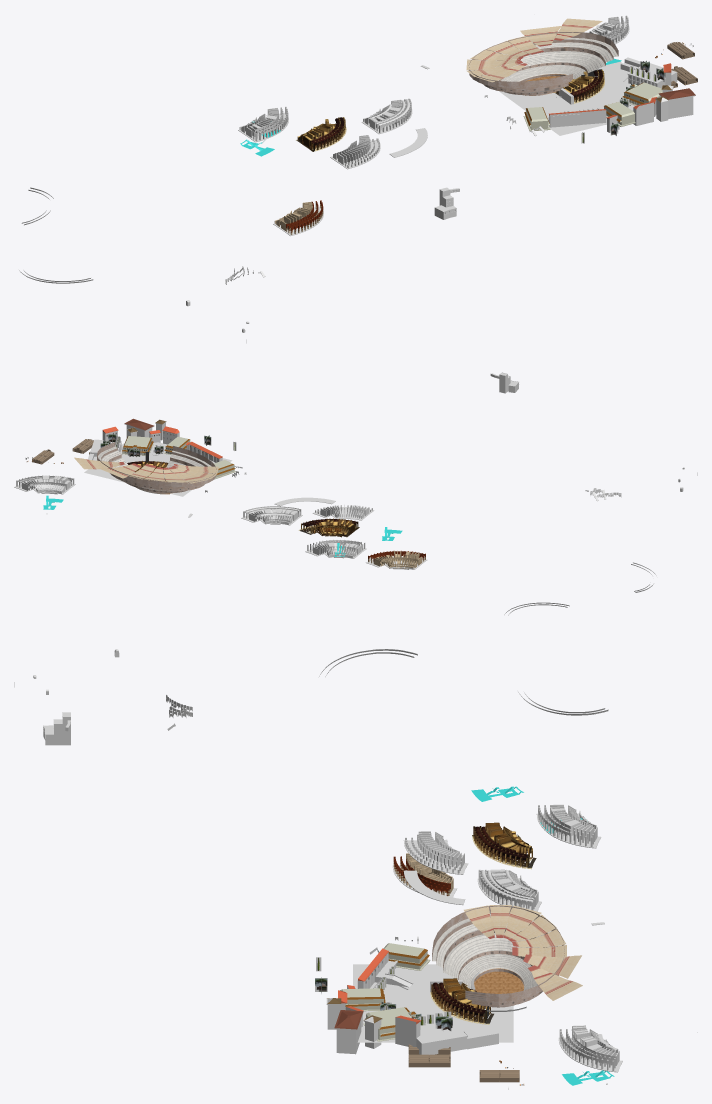
Rendered from colera2v1.glb.
3 views of the same model, one above another, from view 1: azimuth 30°, elevation 25°; view 2: azimuth 150°, elevation 25°; view 3: azimuth 270°, elevation 25° (orthographic). The views are drawn at different scales.
Parts seen in each view (by area): view 1: Cylinder.057, Plane.007, Cube.213, Cube.053, Cube.419, Cube.002, Cube.420, Cube.103, Cube.373, Cube.345, Cube.060, Plane.043 (+5 smaller); view 2: Cylinder.057, Cube.213, Cube.053, Cube.419, Cube.420, Plane.007, Cube.002, Cube.345, Cube.060; view 3: Cylinder.057, Plane.007, Cube.419, Cube.213, Cube.002, Cube.420, Cube.103, Cube.345, Cube.053, Cube.356, Cube.373, Cube.388 (+7 smaller).
Part boxes in pixels (x1,y1,x2,y2): Cylinder.057: (468,32,618,95); Plane.007: (499,61,635,135); Cube.213: (361,98,412,134); Cube.053: (273,200,323,236); Cube.419: (296,117,346,151); Cube.002: (330,135,380,169); Cube.420: (238,106,288,142); Cube.103: (555,69,604,103); Cube.373: (658,88,695,118); Cube.345: (587,15,629,44); Cube.060: (622,82,662,105); Plane.043: (554,18,602,40); Cylinder.057: (97,442,216,494); Cube.213: (241,506,302,525); Cube.053: (366,550,427,569); Cube.419: (298,518,359,537); Cube.420: (305,539,366,558); Plane.007: (84,442,232,496); Cube.002: (312,504,374,520); Cube.345: (14,475,75,494); Cube.060: (121,436,153,455); Cylinder.057: (432,905,564,1007); Plane.007: (353,964,513,1042); Cube.419: (472,822,536,869); Cube.213: (477,869,541,911); Cube.002: (403,831,468,874); Cube.420: (536,804,601,848); Cube.103: (430,978,493,1024); Cube.345: (558,1025,622,1072); Cube.053: (392,853,457,897); Cube.356: (416,1021,467,1054); Cube.373: (334,1010,363,1054); Cube.388: (383,943,430,970).
Size of the model in its own units: 3557 by 614 by 2221.
398 materials, 63 textured.
